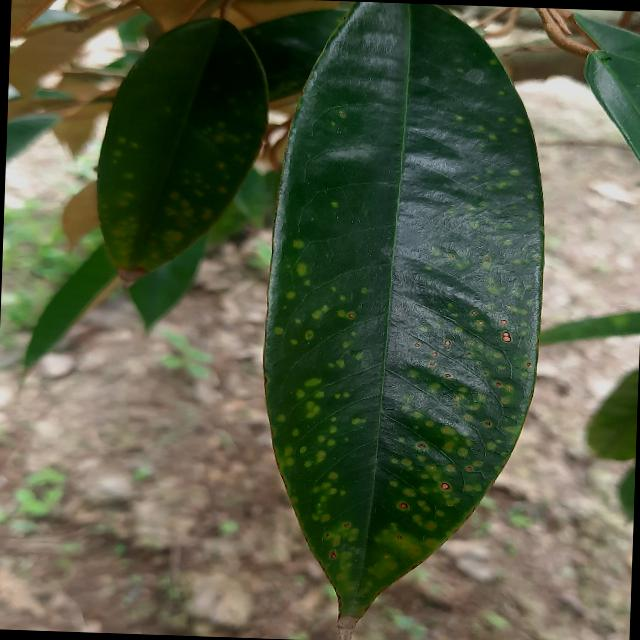Leaf Spot: (252, 0, 560, 639), (80, 2, 282, 314)
